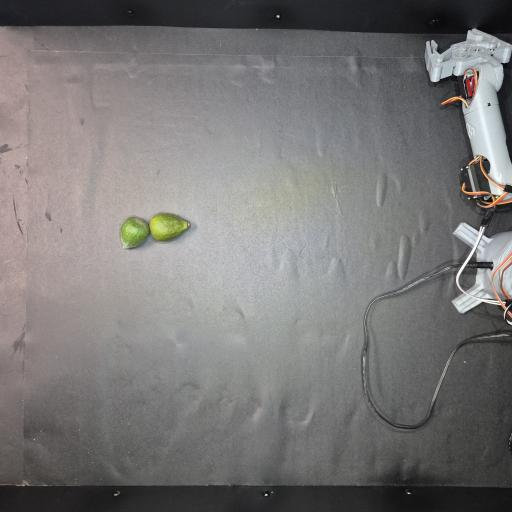higo: (120, 213, 190, 249)
